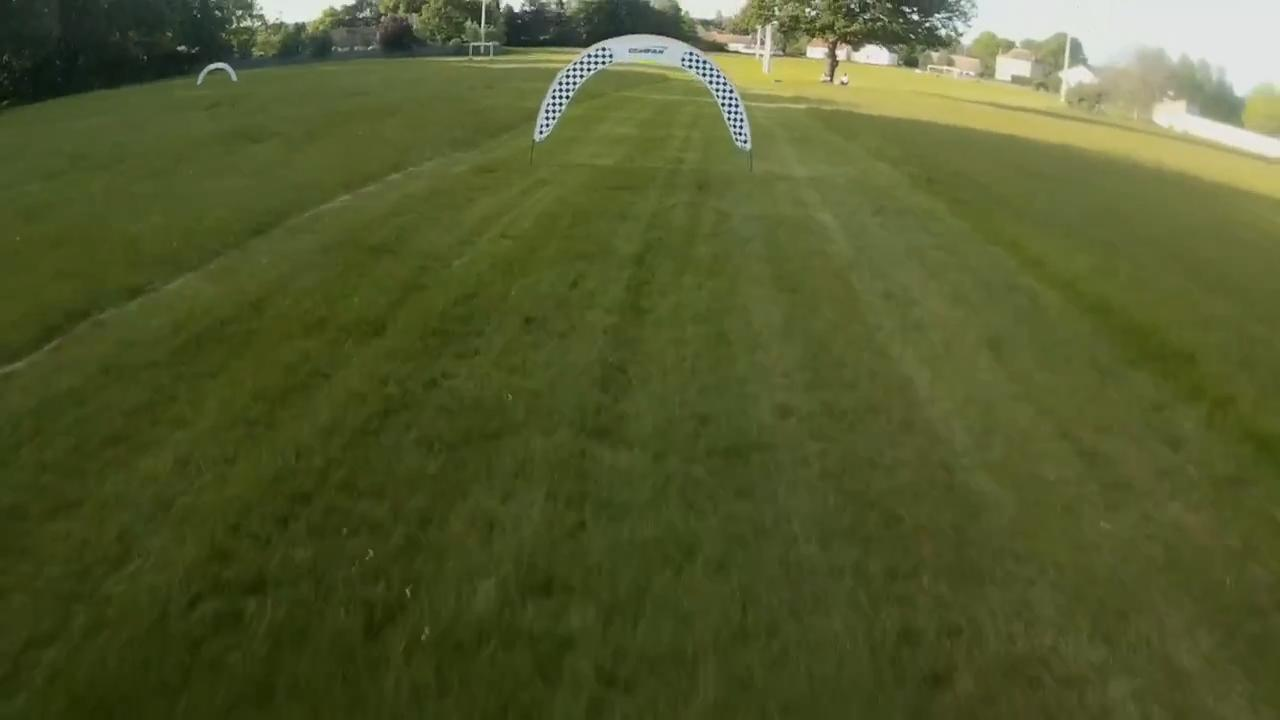gate: (533, 34, 753, 151), (196, 60, 237, 85)
